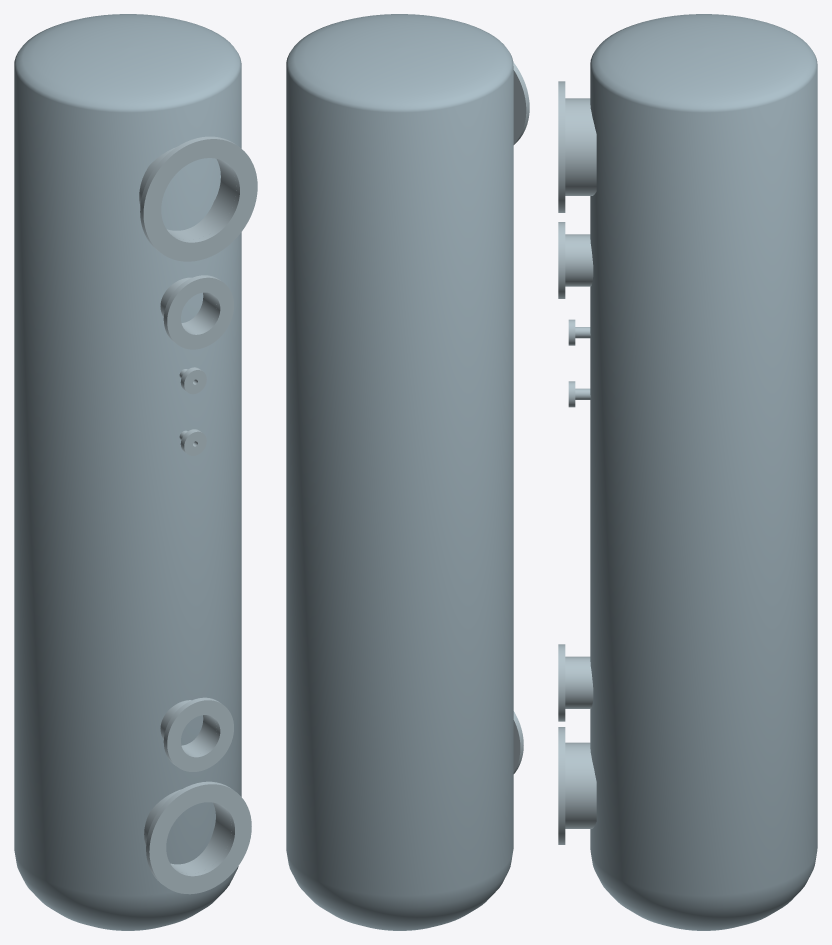
3 views of the same model, side by side, from view 1: azimuth 30°, elevation 25°; view 2: azimuth 150°, elevation 25°; view 3: azimuth 270°, elevation 25° (orthographic).
Visible parts, largest first — view 1: 筒体_直段与封头, 接口_法兰01, 接口_法兰02, 接口_法兰03, 接口_法兰04, 接口_接管01, 接口_接管02, 接口_接管03, 接口_接管04, 接口_法兰05, 接口_法兰06; view 2: 筒体_直段与封头, 接口_法兰01; view 3: 筒体_直段与封头, 接口_接管01, 接口_接管02, 接口_接管03, 接口_接管04, 接口_法兰01, 接口_法兰02, 接口_法兰04, 接口_法兰03.
Boxes of the visible parts, <box> form: 筒体_直段与封头: <box>14,14,241,930</box>; 接口_法兰01: <box>140,136,257,261</box>; 接口_法兰02: <box>146,781,251,894</box>; 接口_法兰03: <box>163,275,233,349</box>; 接口_法兰04: <box>163,697,233,771</box>; 接口_接管01: <box>139,147,236,239</box>; 接口_接管02: <box>144,789,231,873</box>; 接口_接管03: <box>160,277,216,332</box>; 接口_接管04: <box>160,700,216,754</box>; 接口_法兰05: <box>180,367,206,394</box>; 接口_法兰06: <box>180,429,206,455</box>; 筒体_直段与封头: <box>286,14,513,930</box>; 接口_法兰01: <box>513,62,529,144</box>; 筒体_直段与封头: <box>590,14,817,930</box>; 接口_接管01: <box>565,98,596,195</box>; 接口_接管02: <box>565,742,596,828</box>; 接口_接管03: <box>565,234,593,286</box>; 接口_接管04: <box>565,656,593,708</box>; 接口_法兰01: <box>558,81,565,212</box>; 接口_法兰02: <box>558,727,565,844</box>; 接口_法兰04: <box>558,644,565,721</box>; 接口_法兰03: <box>558,222,565,298</box>.
Size of the model in its own units: 1 by 4.21 by 1.14.
